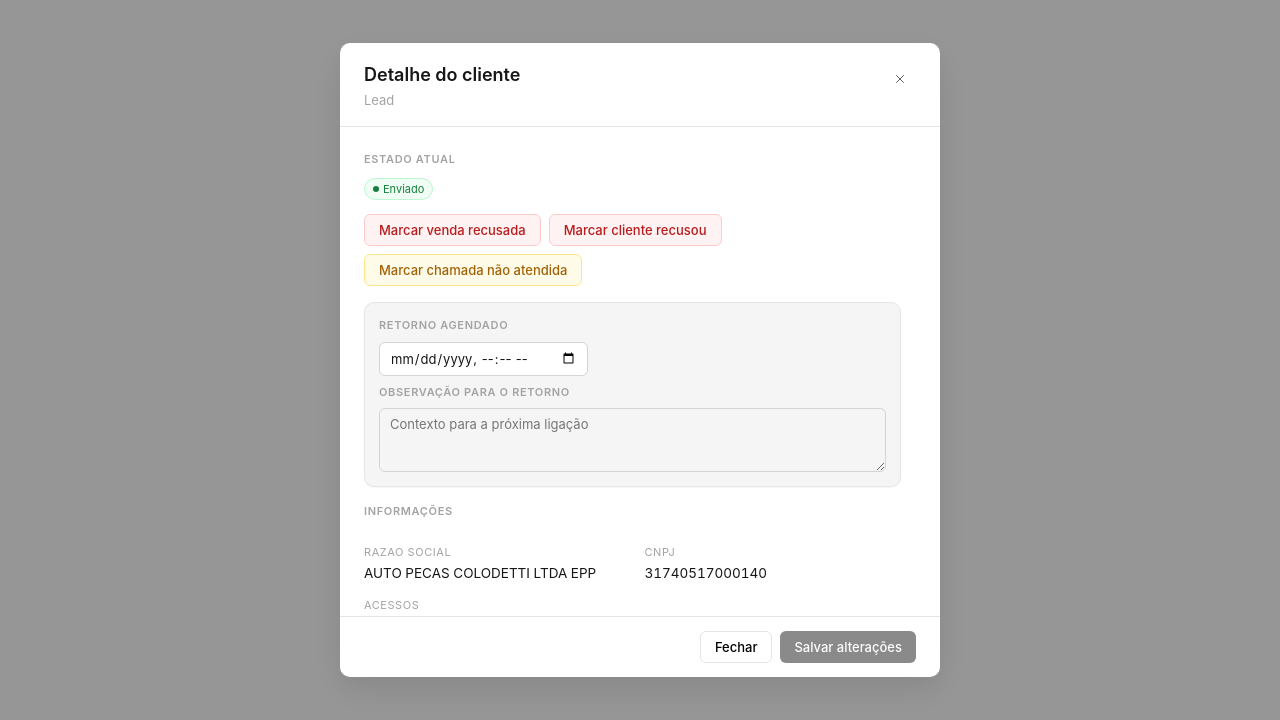
Scenario: LeadDetalheAdminModal - estados so gravam no "Salvar alteracoes" › o salvar nasce desabilitado e habilita apos uma alteracao
Expected: the button "Salvar alterações" is disabled, [780,631,916,663]
Step 1. Click the button "Marcar chamada não atendida" → [473, 270], box [364,254,582,286]
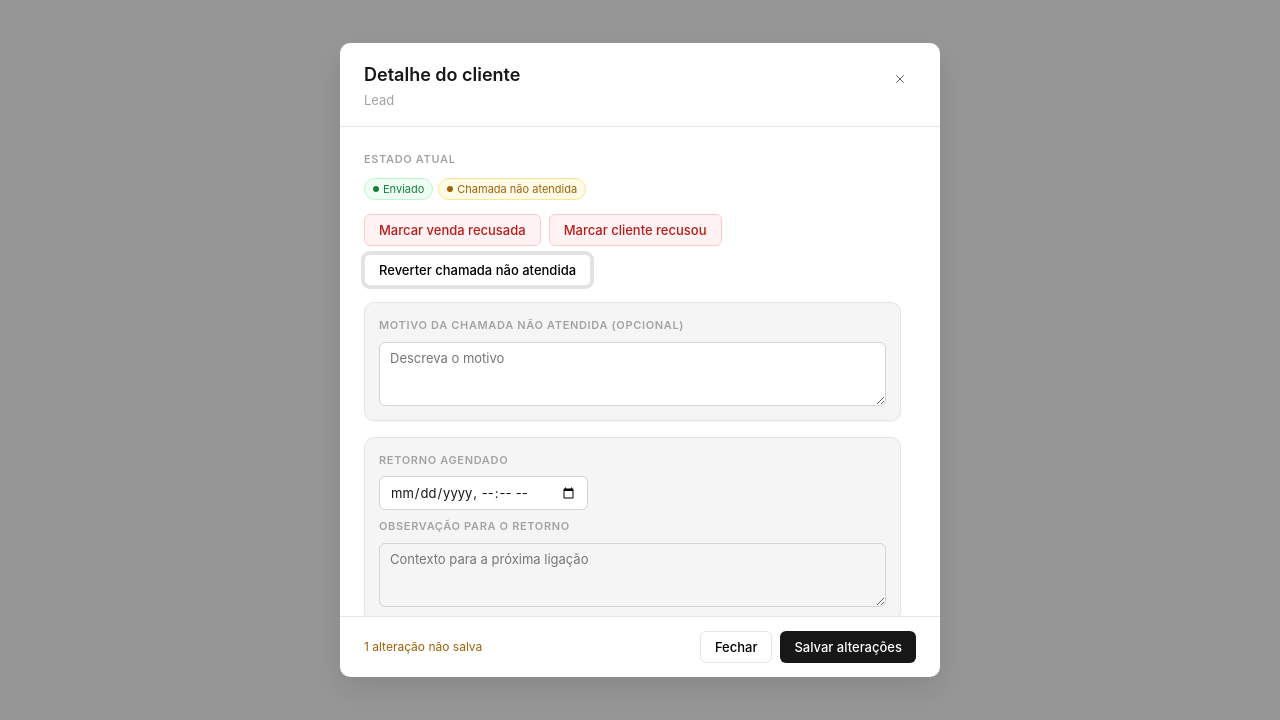
Expected: the button "Salvar alterações" is enabled, [780,631,916,663]
Expected: the text "1 alteração não salva" is shown, [364,638,482,656]
